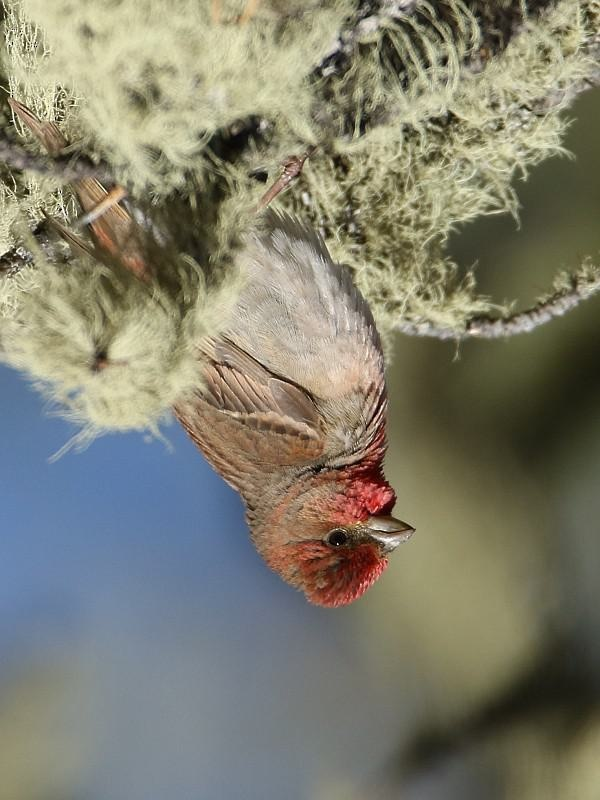rosefinch: (172, 124, 418, 610)
